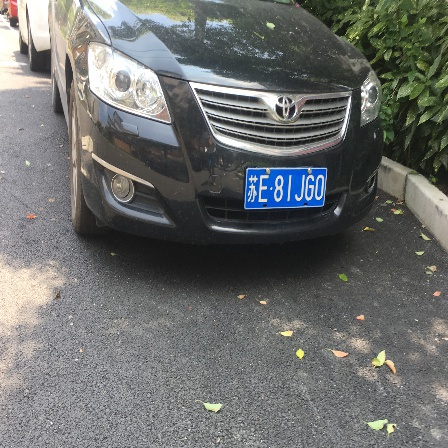plate: (240, 162, 332, 216)
